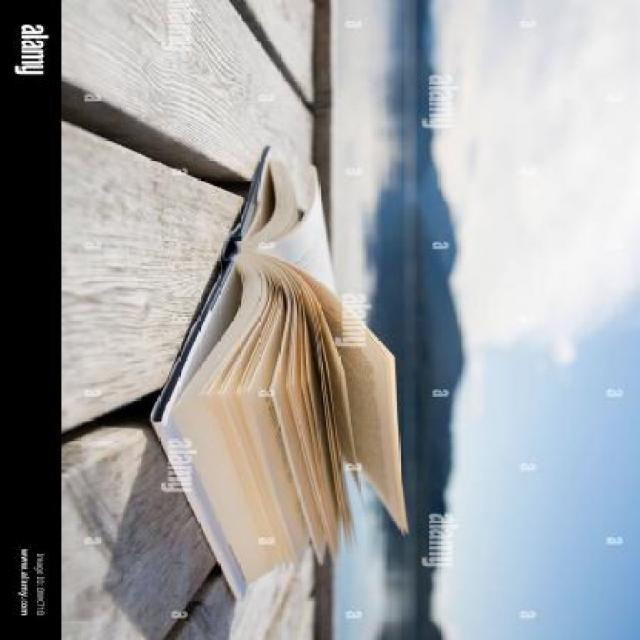book: (140, 112, 478, 615)
